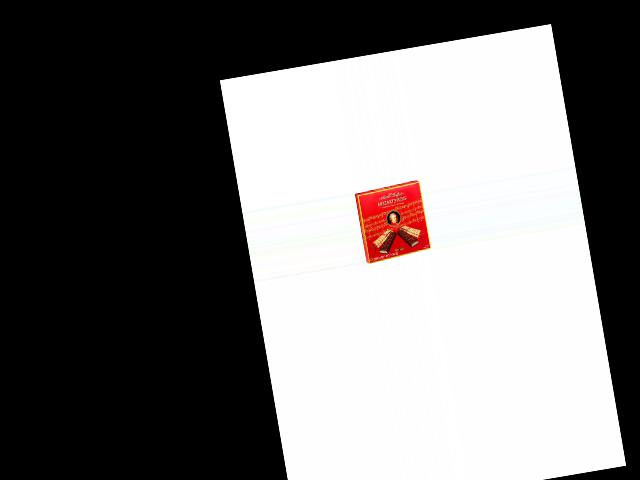chocolate: (354, 180, 433, 266)
